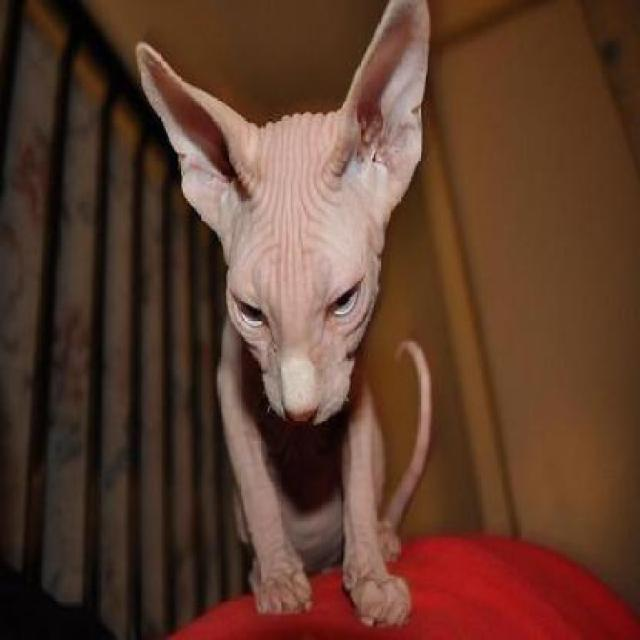cat: (133, 0, 429, 623)
